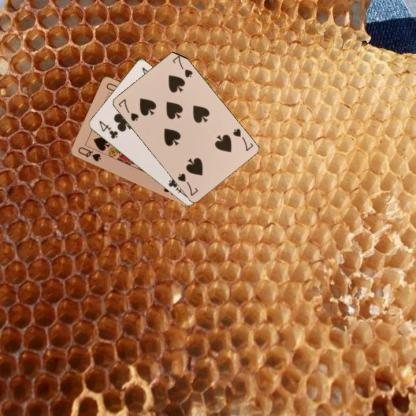4c: (96, 118, 119, 140)
7s: (116, 96, 140, 122), (230, 126, 254, 152)
Qs: (75, 144, 102, 163)
